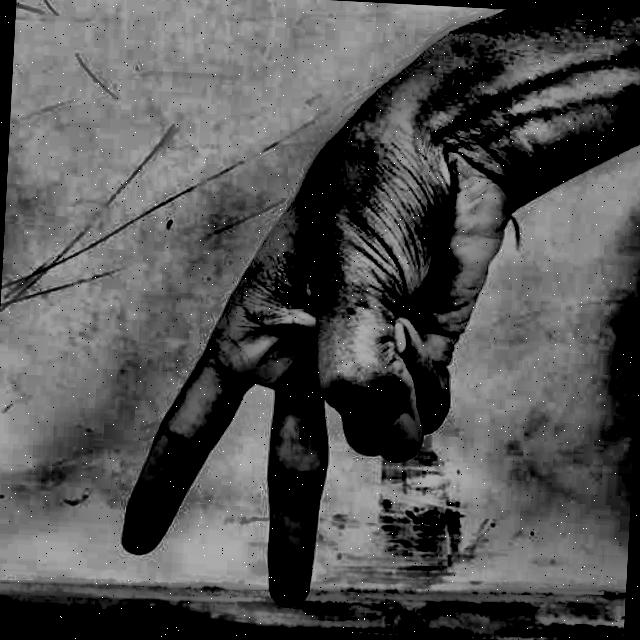Pa: (60, 22, 544, 630)
